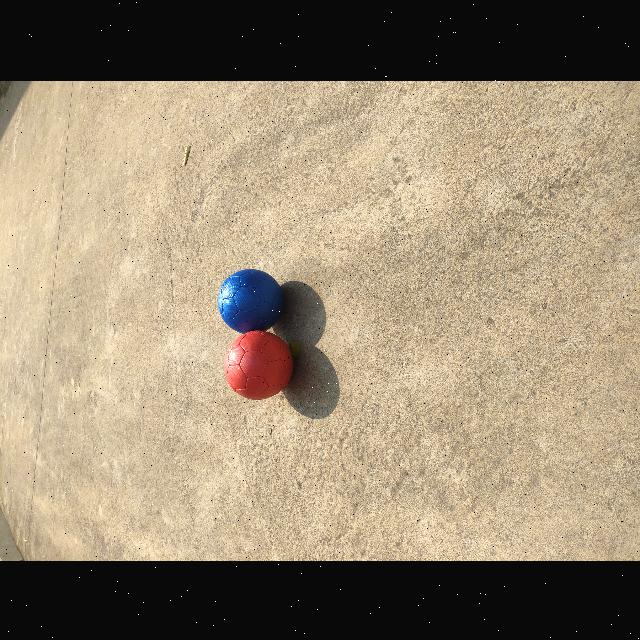B: (219, 267, 284, 333)
R: (224, 329, 294, 399)
